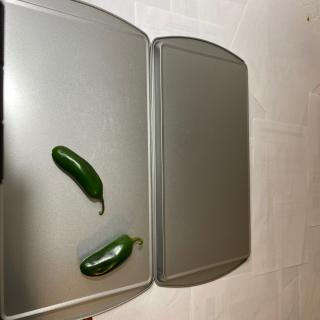Chilli: (51, 144, 105, 216)
Tomato: (80, 234, 144, 277)
